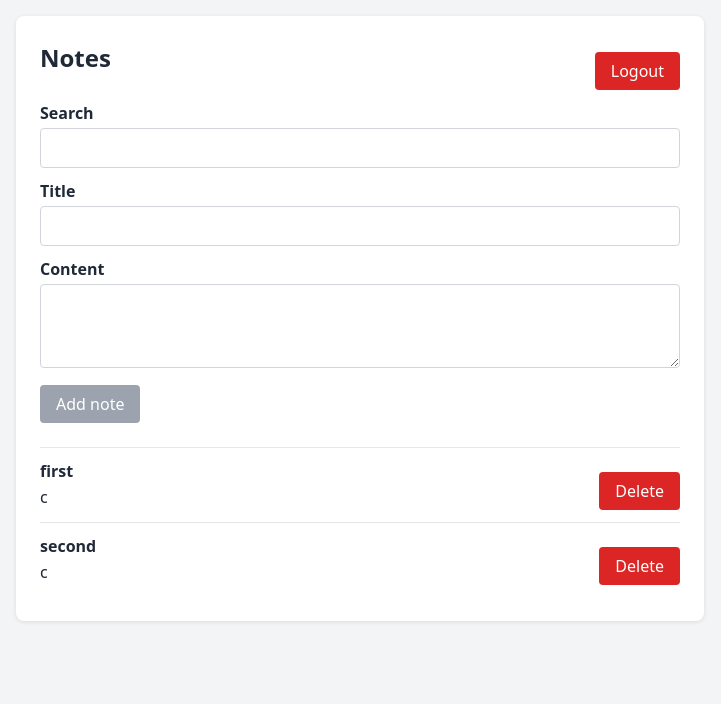
NotesComponent › creating a note appends it to the list and clears the form
Type "third" into the field with id "title".
click(360, 226); type("third")  # box [40,206,680,246]
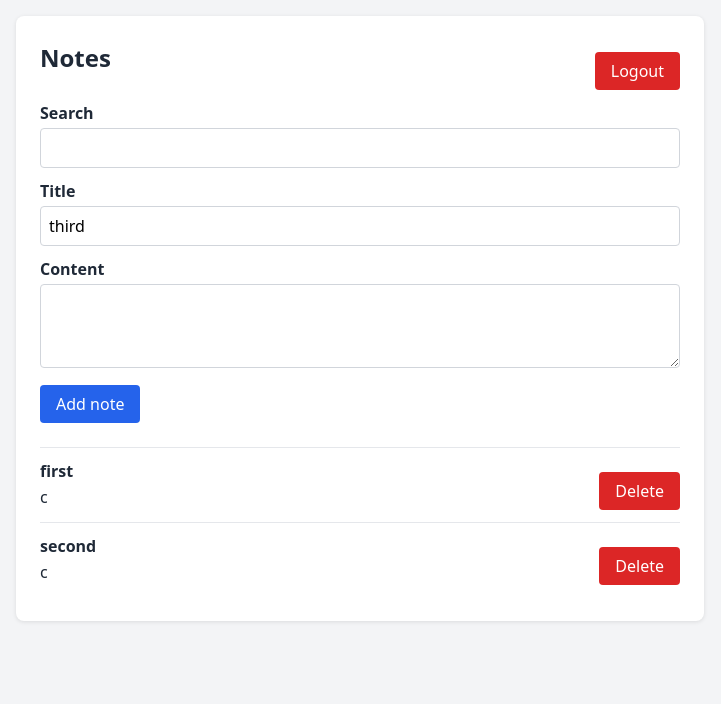
Type "body" into the text box labelled "Content".
click(360, 326); type("body")  # box [40,284,680,368]
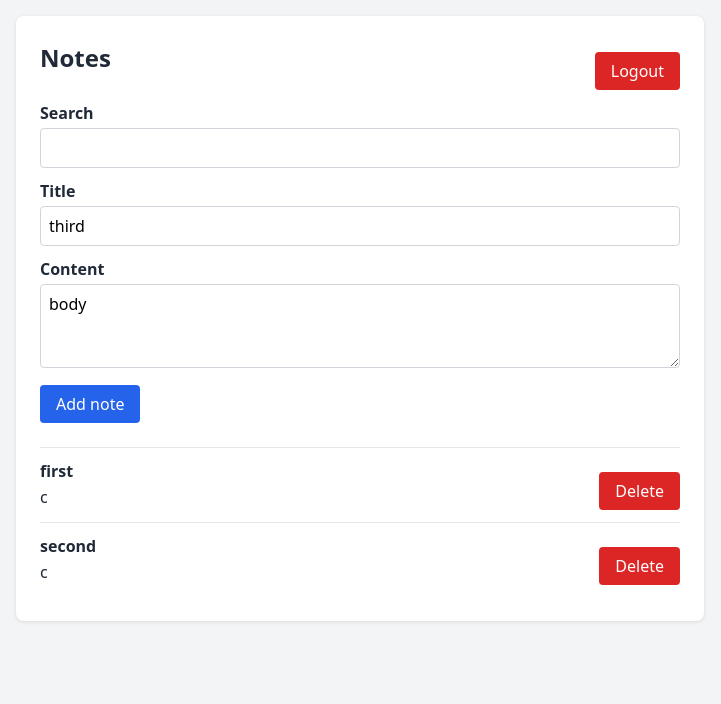
Submit the form with class "create", box [40,180,680,423]
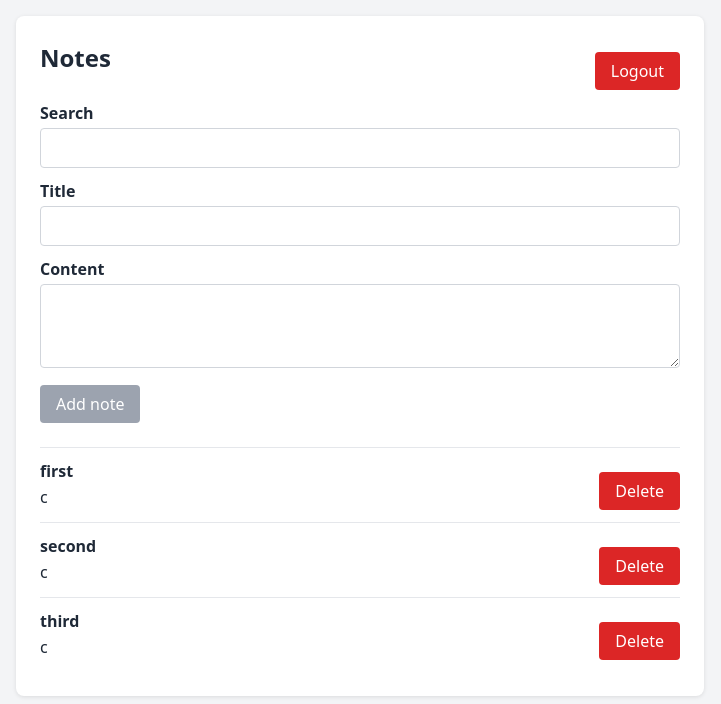
expect the number of list items with class "note" is 3: met, box [40,447,680,522]; [40,522,680,597]; [40,597,680,672]
expect the field with id "title" is empty: met, box [40,206,680,246]
